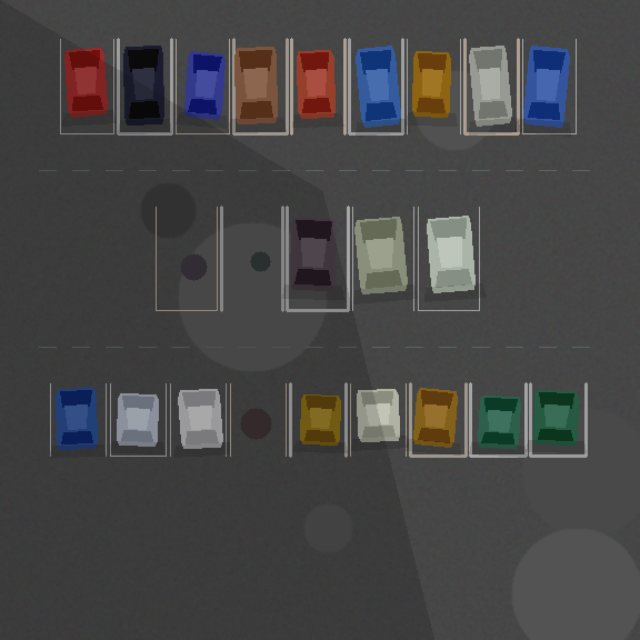space-empty: (156, 207, 217, 310), (221, 207, 282, 310), (230, 383, 286, 456)
space-occupied: (287, 207, 348, 310), (352, 207, 413, 310), (418, 207, 479, 310), (233, 39, 287, 133), (464, 39, 518, 133), (522, 39, 576, 133), (60, 39, 113, 133), (118, 39, 171, 133), (176, 39, 229, 133), (291, 39, 344, 133), (349, 39, 402, 133), (407, 39, 460, 133), (50, 383, 106, 456), (110, 383, 166, 456), (170, 383, 226, 456), (290, 383, 346, 456), (350, 383, 406, 456), (410, 383, 466, 456), (470, 383, 526, 456), (530, 383, 586, 456)
